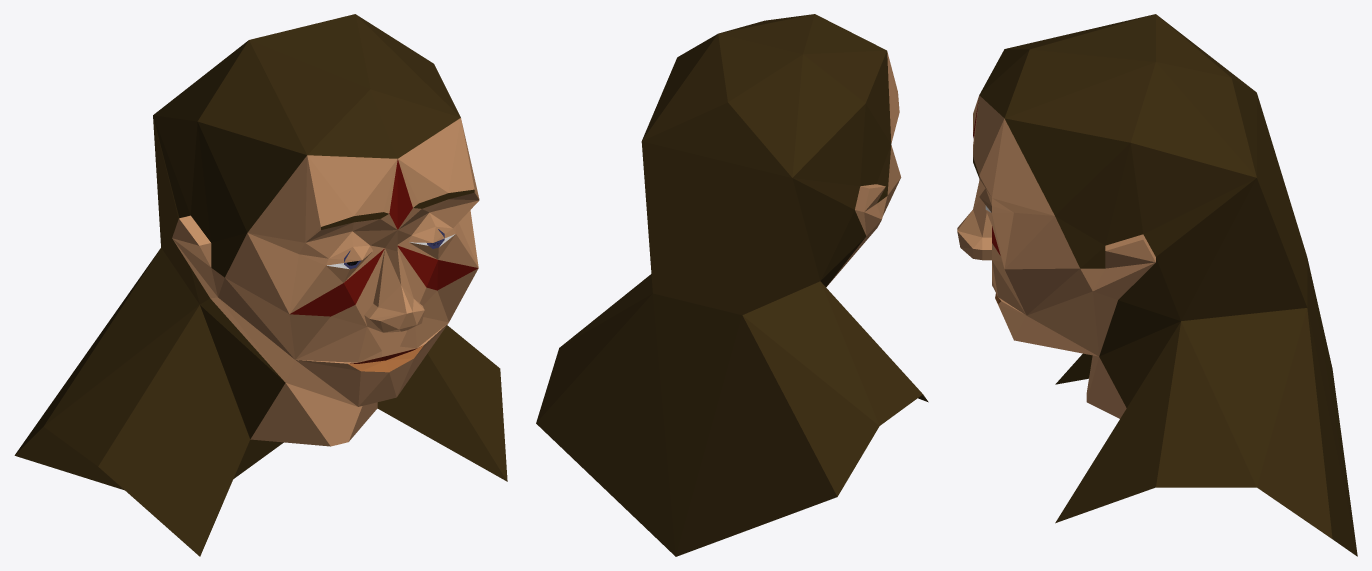
Rendered from model_121_npc_head.obj.
The picture shows the model from 3 angles, left to right: view 1: azimuth 30°, elevation 25°; view 2: azimuth 150°, elevation 25°; view 3: azimuth 270°, elevation 25°; orthographic projection. The views are drawn at different scales.
Parts seen in each view (by area): view 1: 121; view 2: 121; view 3: 121.
Part boxes in pixels (x1,y1,x2,y2): 121: (14, 14, 507, 556); 121: (536, 14, 928, 556); 121: (957, 14, 1357, 556).
Bounding box in the file's own units: 136 × 182 × 127.
